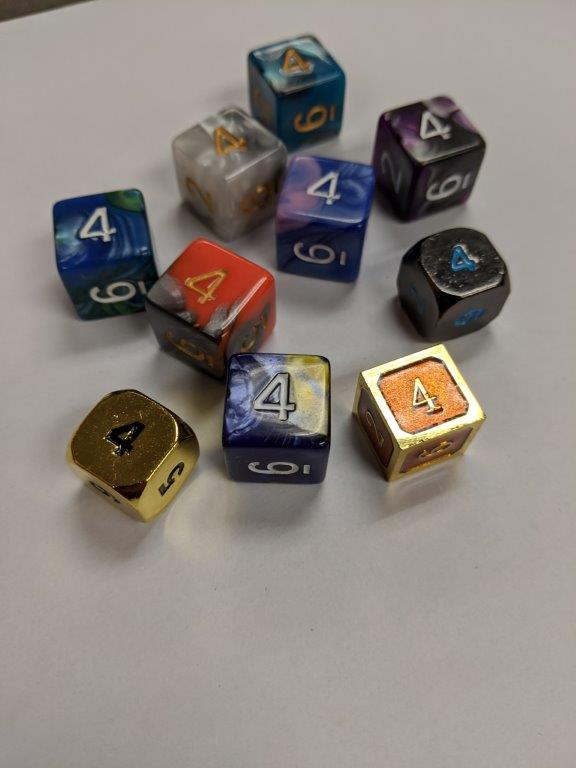d6-4: (357, 340, 483, 486), (68, 390, 197, 522), (145, 239, 280, 363), (170, 105, 287, 234), (223, 351, 330, 489), (50, 186, 159, 321), (373, 95, 488, 222), (398, 225, 513, 345), (274, 154, 374, 286), (246, 34, 346, 149)
